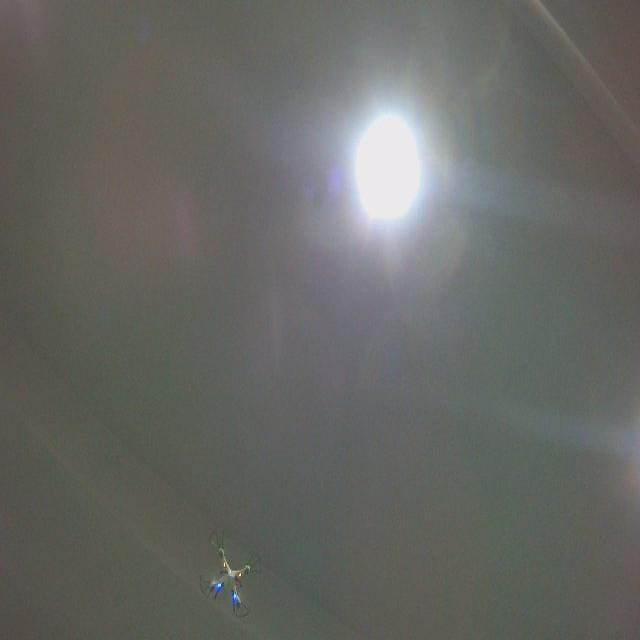drone: (198, 526, 264, 621)
